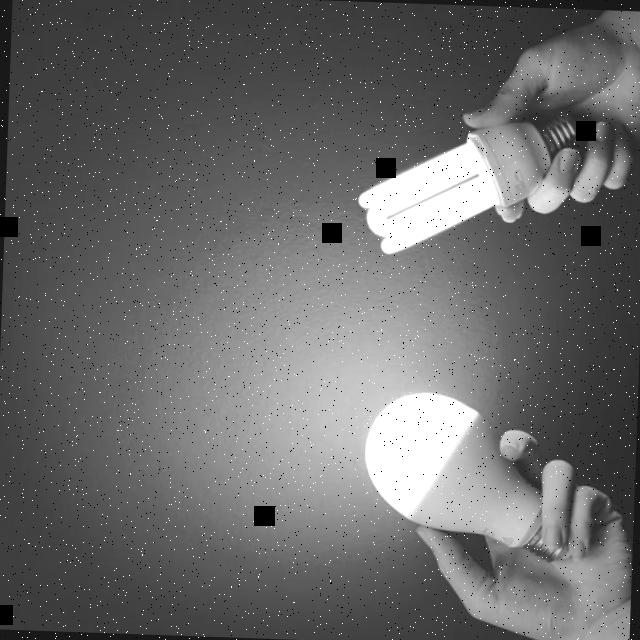light_bulb: (333, 80, 611, 280), (329, 386, 588, 568)
